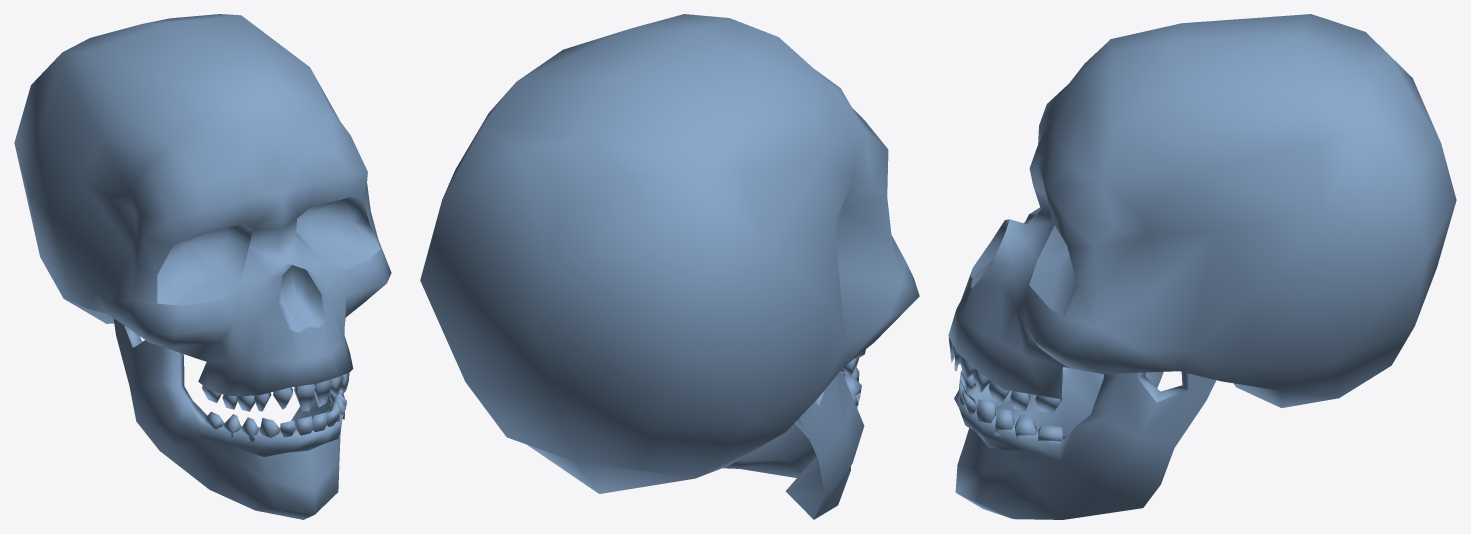
File: skull_low_mesh.FBX
3 renders of one model, left to right at view 1: azimuth 30°, elevation 25°; view 2: azimuth 150°, elevation 25°; view 3: azimuth 270°, elevation 25°, orthographic. The views are drawn at different scales.
Parts seen in each view (by area): view 1: Skull_head_low, Skull_jaw_low; view 2: Skull_head_low, Skull_jaw_low; view 3: Skull_head_low, Skull_jaw_low.
Part boxes in pixels (<box>): Skull_head_low: <box>14,14,391,411</box>; Skull_jaw_low: <box>113,318,346,519</box>; Skull_head_low: <box>420,14,919,493</box>; Skull_jaw_low: <box>723,367,864,519</box>; Skull_head_low: <box>948,14,1456,412</box>; Skull_jaw_low: <box>954,367,1216,519</box>.
Size of the model in its own units: 102 by 142 by 139.
